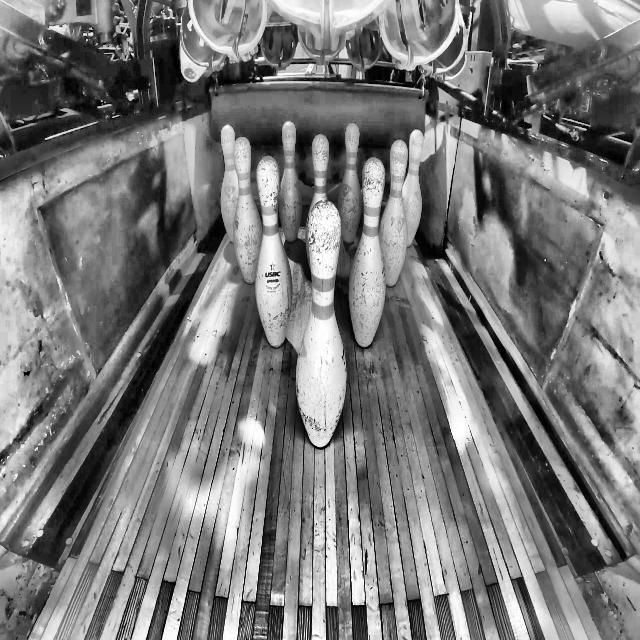bowling-pins: (296, 197, 347, 448), (255, 155, 292, 346), (349, 156, 386, 347), (233, 136, 262, 283), (380, 139, 408, 285), (338, 123, 362, 243), (279, 120, 302, 241), (403, 129, 425, 245), (221, 124, 238, 240), (309, 133, 329, 210)
